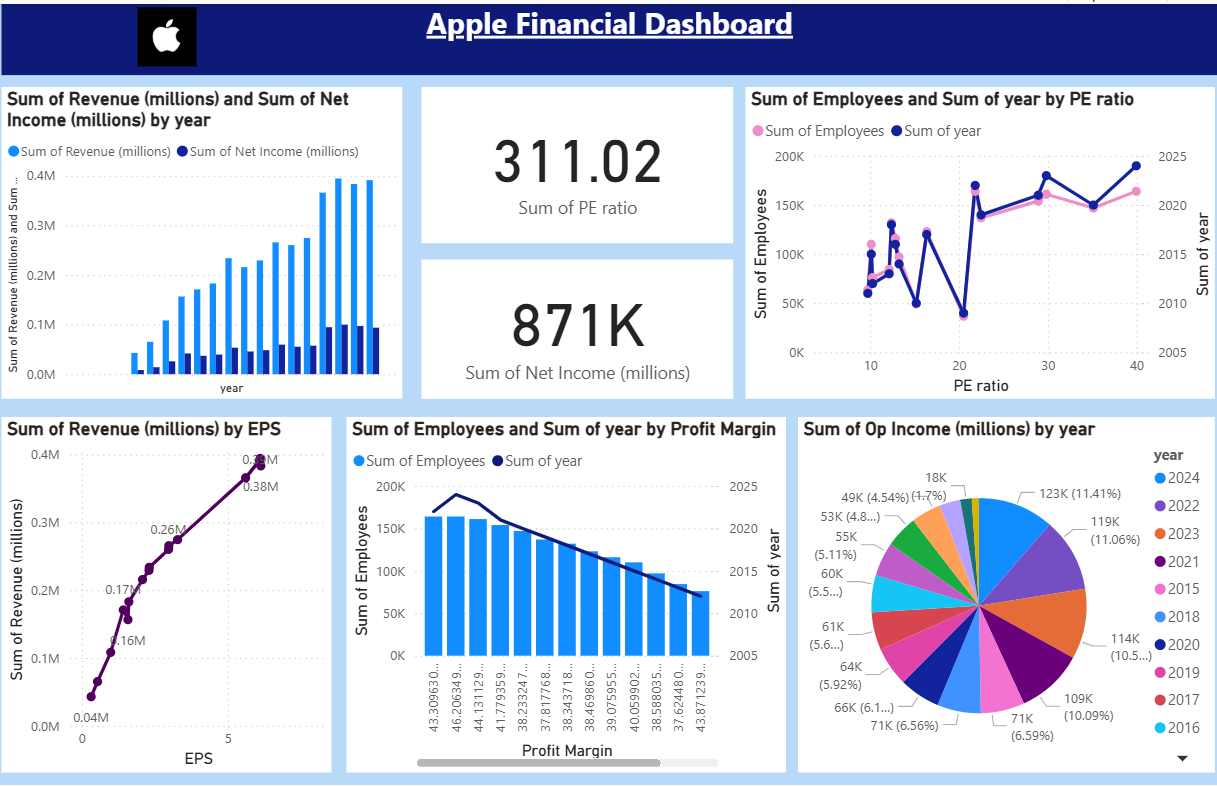

Layout of this report page (visuals, bound fields, positions):
{"tool":"powerbi","page":{"name":"Page 2","canvas":[1280,720],"ordinal":1},"visuals":[{"type":"textbox","box":[9.1,0,1256.8,71.2],"z":0},{"type":"clusteredColumnChart","fields":{"Y":["Sum(Apple_2009_2024.Revenue (millions))","Sum(Apple_2009_2024.Net Income (millions))"],"Category":["Apple_2009_2024.year"]},"box":[9.6,82.2,365.8,284.9],"z":1000},{"type":"lineChart","fields":{"Y":["Sum(Apple_2009_2024.Revenue (millions))"],"Category":["Apple_2009_2024.EPS"]},"box":[9.6,383.6,301.4,324.7],"z":2000},{"type":"pieChart","fields":{"Y":["Sum(Apple_2009_2024.Op Income (millions))"],"Category":["Apple_2009_2024.year"]},"box":[737.4,383.1,528.5,325.6],"z":3000},{"type":"lineChart","fields":{"Y":["Sum(Apple_2009_2024.Employees)"],"Y2":["Sum(Apple_2009_2024.year)"],"Category":["Apple_2009_2024.PE ratio"]},"box":[689,81.8,576.9,284.7],"z":4000},{"type":"lineStackedColumnComboChart","fields":{"Y":["Sum(Apple_2009_2024.Employees)"],"Y2":["Sum(Apple_2009_2024.year)"],"Category":["Apple_2009_2024.Profit Margin"]},"box":[324.7,383.6,401.4,324.7],"z":5000},{"type":"card","fields":{"Values":["Sum(Apple_2009_2024.PE ratio)"]},"box":[393.2,82.2,284.9,142.5],"z":6000},{"type":"card","fields":{"Values":["Sum(Apple_2009_2024.Net Income (millions))"]},"box":[393.2,239.7,284.9,127.4],"z":7000},{"type":"image","box":[116.4,4.1,89,64.4],"z":9000}]}

Visuals, with their boxes on the page's 1280x720 design canvas (x1, y1, x2, y2). These are canvas units, not pixel positions in the 1217x786 screenshot, which may show the page scaled, cropped or inside an application window:
textbox: left=9, top=0, right=1266, bottom=71
clusteredColumnChart - Sum(Apple_2009_2024.Revenue (millions)) x Sum(Apple_2009_2024.Net Income (millions)): left=10, top=82, right=375, bottom=367
lineChart - Sum(Apple_2009_2024.Revenue (millions)) x Apple_2009_2024.EPS: left=10, top=384, right=311, bottom=708
pieChart - Sum(Apple_2009_2024.Op Income (millions)) x Apple_2009_2024.year: left=737, top=383, right=1266, bottom=709
lineChart - Sum(Apple_2009_2024.Employees) x Sum(Apple_2009_2024.year): left=689, top=82, right=1266, bottom=366
lineStackedColumnComboChart - Sum(Apple_2009_2024.Employees) x Sum(Apple_2009_2024.year): left=325, top=384, right=726, bottom=708
card - Sum(Apple_2009_2024.PE ratio): left=393, top=82, right=678, bottom=225
card - Sum(Apple_2009_2024.Net Income (millions)): left=393, top=240, right=678, bottom=367
image: left=116, top=4, right=205, bottom=68
